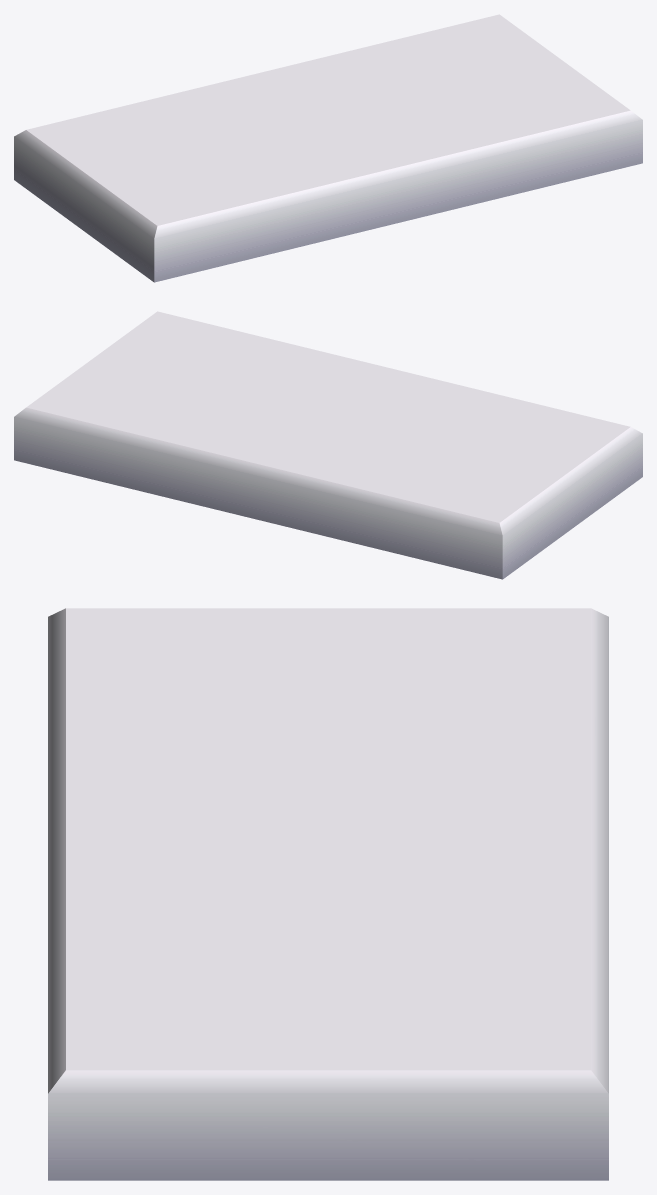
File: none-hq-plate-2x4.glb
The picture shows the model from 3 angles, top to bottom: view 1: azimuth 30°, elevation 25°; view 2: azimuth 150°, elevation 25°; view 3: azimuth 270°, elevation 25°; orthographic projection. The views are drawn at different scales.
Visible parts, largest first — view 1: none-hq-plate-2x4; view 2: none-hq-plate-2x4; view 3: none-hq-plate-2x4.
Part boxes in pixels (box(x1,y1,x2,y2)): none-hq-plate-2x4: box(14, 14, 642, 282); none-hq-plate-2x4: box(14, 311, 642, 579); none-hq-plate-2x4: box(48, 608, 608, 1180).
Size of the model in its own units: 0.318 by 0.032 by 0.158.
Materials: 1 (1 with a texture image).
